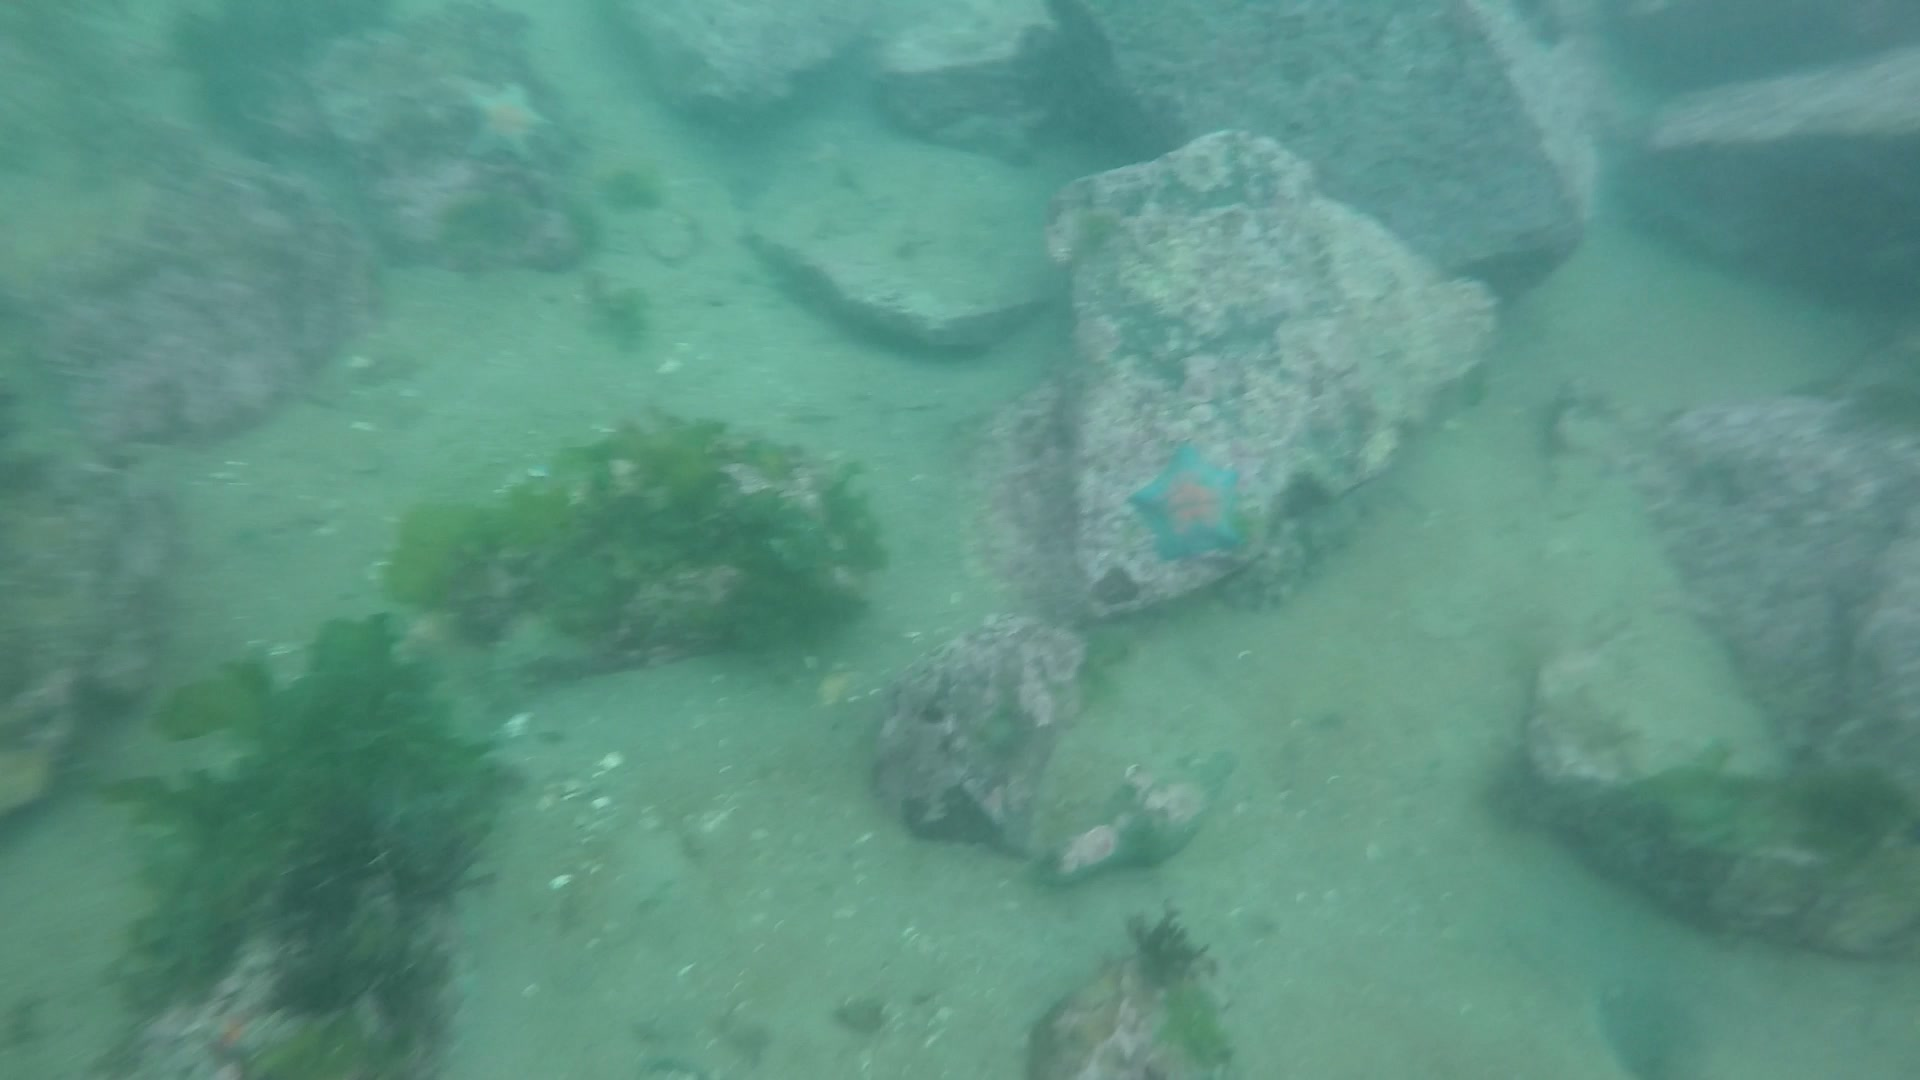starfish: (1117, 450, 1255, 556), (462, 79, 560, 167)
